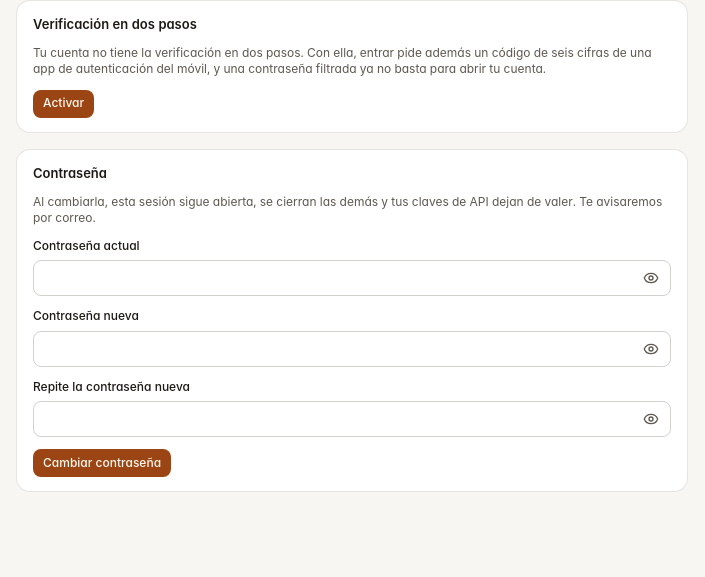
it: Seguridad: alta › con la sesión antigua ofrece volver a entrar en vez de decir «sin permiso»
This screenshot has width=705, height=577.
What coordinates should you click on to do the following:
click the button "Activar"
I would click on:
 (64, 104)
Its box is [33, 90, 94, 118].
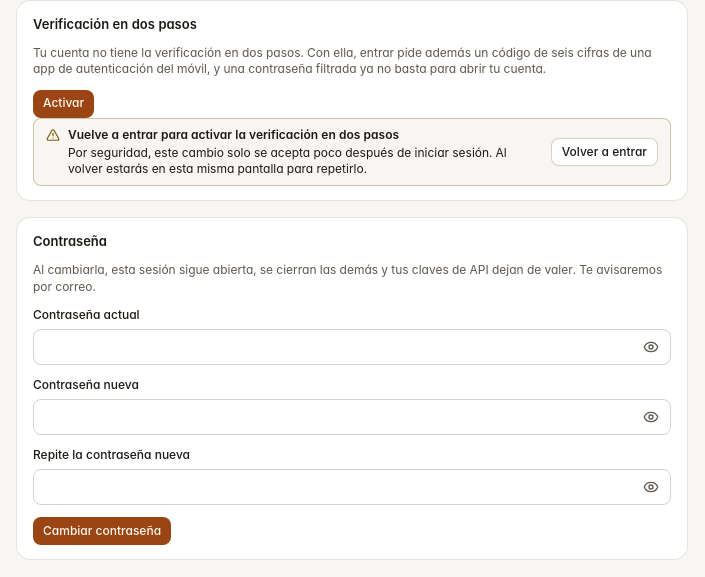
Expected: the button "Volver a entrar" is shown, [551, 138, 658, 166]
